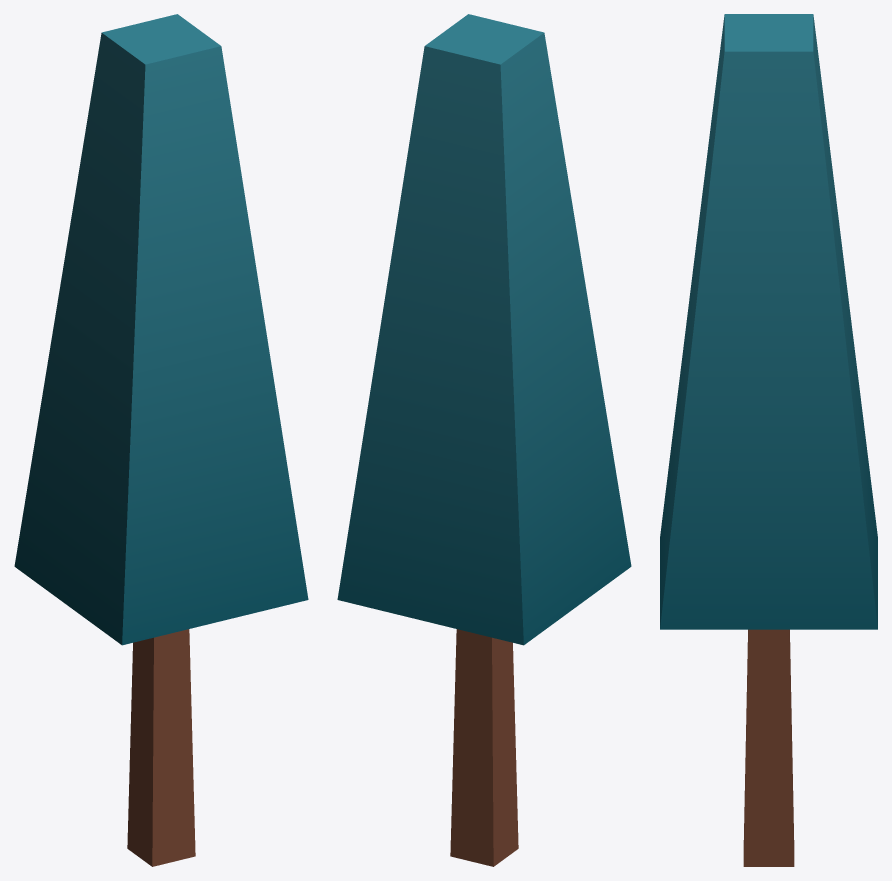
The model's file is Tree_26_gradient_blue_vc.fbx.
The picture shows the model from 3 angles, left to right: view 1: azimuth 30°, elevation 25°; view 2: azimuth 150°, elevation 25°; view 3: azimuth 270°, elevation 25°; orthographic projection.
Visible parts, largest first — view 1: Tree_26_gradient_blue_vc; view 2: Tree_26_gradient_blue_vc; view 3: Tree_26_gradient_blue_vc.
Boxes of the visible parts, bbox=[...] form: Tree_26_gradient_blue_vc: bbox=[14, 14, 308, 866]; Tree_26_gradient_blue_vc: bbox=[337, 14, 631, 866]; Tree_26_gradient_blue_vc: bbox=[660, 14, 877, 866].
Size of the model in its own units: 63.19 by 263 by 63.19.
